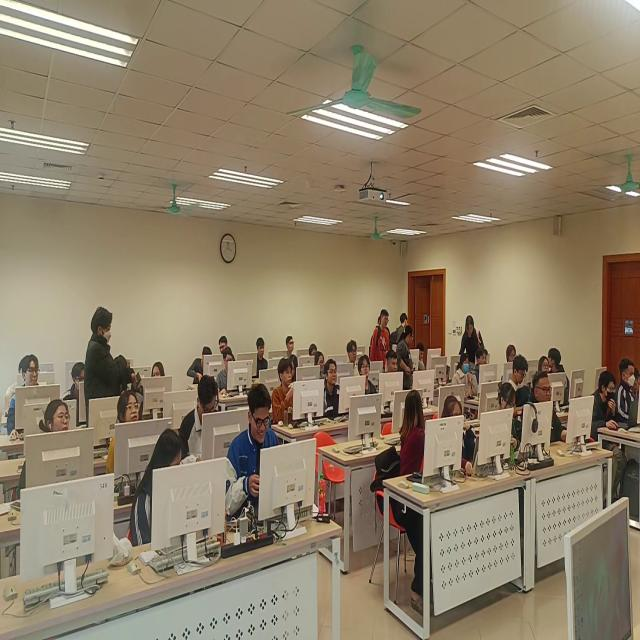raise_head: (17, 398, 72, 503), (528, 371, 575, 446), (6, 355, 41, 443), (107, 390, 141, 475), (273, 359, 301, 428), (322, 359, 344, 420), (452, 353, 479, 401), (357, 354, 379, 397), (473, 347, 489, 386), (347, 339, 359, 369), (285, 336, 298, 363), (538, 357, 550, 378), (310, 344, 319, 358)
stand: (459, 315, 485, 366), (395, 325, 415, 390), (369, 309, 391, 364), (390, 311, 410, 349)
using_computer: (224, 383, 280, 523), (131, 429, 184, 550), (178, 375, 220, 467), (443, 397, 478, 472), (587, 371, 618, 442), (496, 380, 522, 460), (4, 357, 29, 416), (616, 358, 636, 424), (188, 341, 213, 388), (217, 347, 239, 397), (508, 355, 530, 404), (63, 363, 88, 403), (253, 338, 270, 384), (630, 365, 640, 423), (416, 340, 430, 373), (386, 351, 399, 375), (316, 350, 326, 377), (507, 345, 518, 364)
